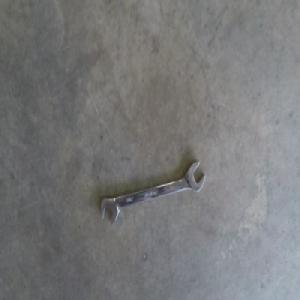Wrench: (101, 162, 205, 227)
